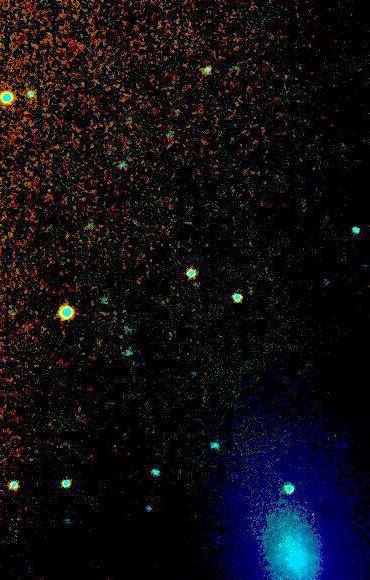star: (266, 532, 296, 562)
